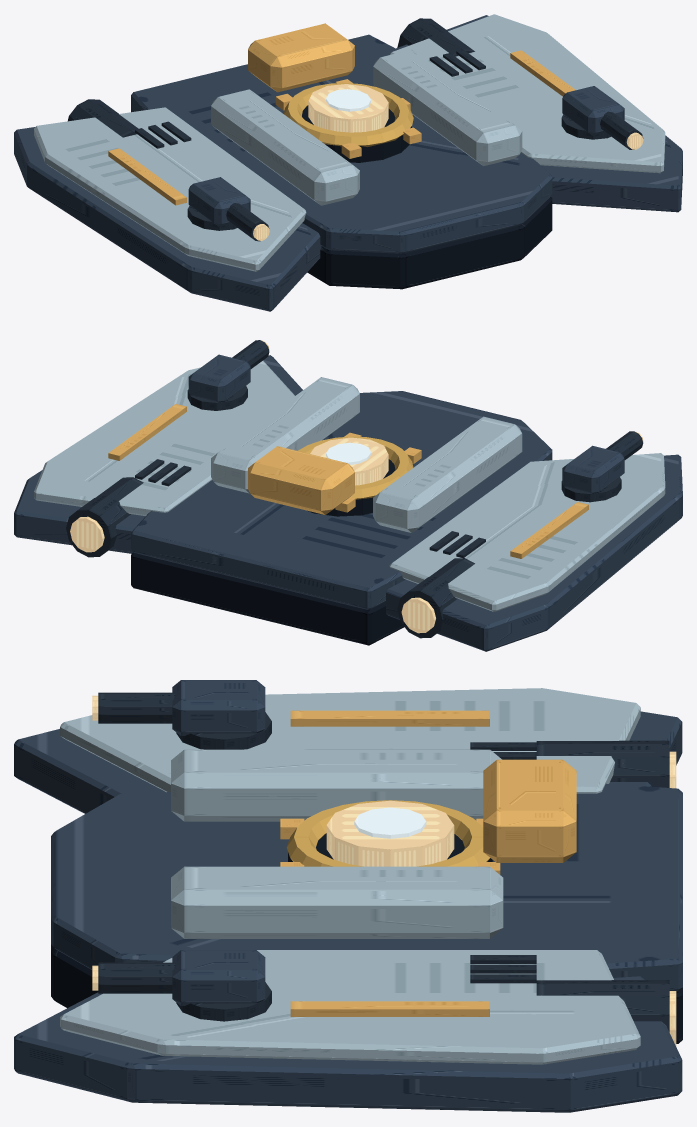
File: boss-02-heavy.glb
3 views of the same model, one above another, from view 1: azimuth 30°, elevation 25°; view 2: azimuth 150°, elevation 25°; view 3: azimuth 270°, elevation 25° (orthographic). The views are drawn at different scales.
Visible parts, largest first — view 1: Boss_Ship_Geometry, Core_Geometry, Turret_L_Geometry, Turret_R_Geometry; view 2: Boss_Ship_Geometry, Core_Geometry, Turret_L_Geometry, Turret_R_Geometry; view 3: Boss_Ship_Geometry, Core_Geometry, Turret_R_Geometry, Turret_L_Geometry.
Part boxes in pixels (x1,y1,x2,y2): Boss_Ship_Geometry: [14, 14, 682, 311]; Core_Geometry: [275, 79, 421, 162]; Turret_L_Geometry: [187, 177, 269, 241]; Turret_R_Geometry: [561, 86, 643, 149]; Boss_Ship_Geometry: [14, 355, 682, 651]; Core_Geometry: [298, 432, 421, 516]; Turret_L_Geometry: [561, 431, 643, 502]; Turret_R_Geometry: [187, 340, 269, 410]; Boss_Ship_Geometry: [14, 688, 682, 1112]; Core_Geometry: [280, 800, 500, 874]; Turret_R_Geometry: [92, 950, 271, 1021]; Turret_L_Geometry: [92, 680, 271, 749].
Size of the model in its own units: 7.4 by 1.59 by 5.55.
Materials: 8 (8 with a texture image).
